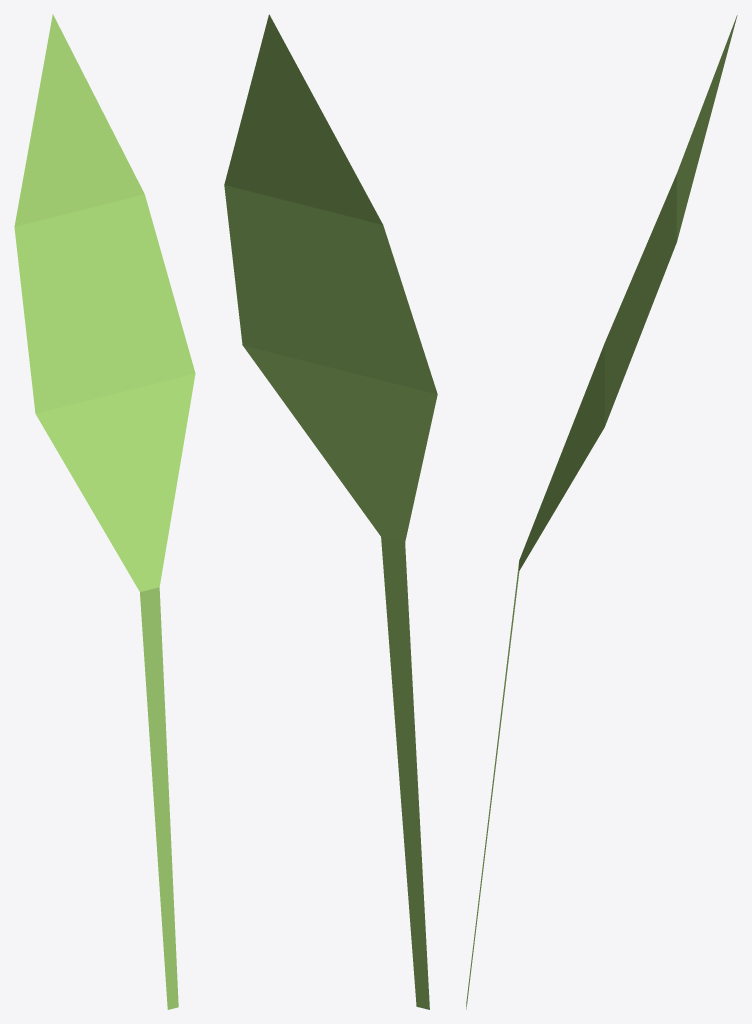
File: Plant_g_TwoS_01.fbx
3 renders of one model, left to right at view 1: azimuth 30°, elevation 25°; view 2: azimuth 150°, elevation 25°; view 3: azimuth 270°, elevation 25°, orthographic. The views are drawn at different scales.
Visible parts, largest first — view 1: Plant_g_TwoS_01; view 2: Plant_g_TwoS_01; view 3: Plant_g_TwoS_01.
Part boxes in pixels (<box>): Plant_g_TwoS_01: <box>14,14,195,1009</box>; Plant_g_TwoS_01: <box>224,14,437,1009</box>; Plant_g_TwoS_01: <box>466,15,737,1009</box>.
Bounding box in the file's own units: 0.1281 × 0.6917 × 0.1712.
